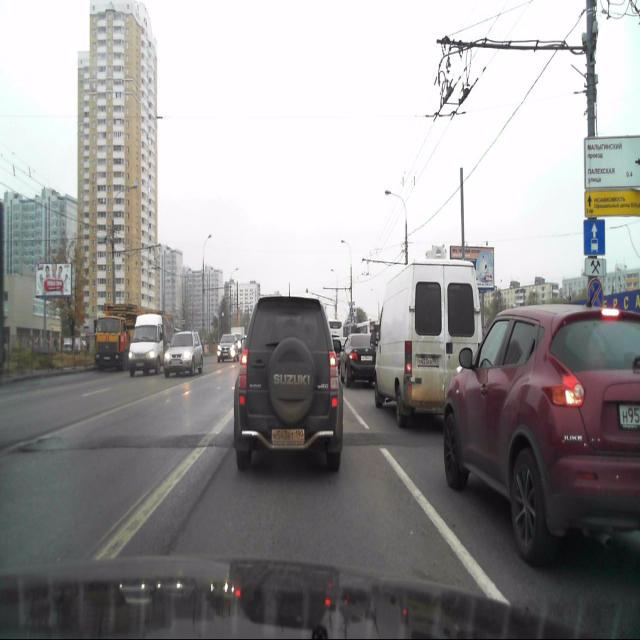road sign: (584, 219, 606, 255), (585, 258, 606, 276)
